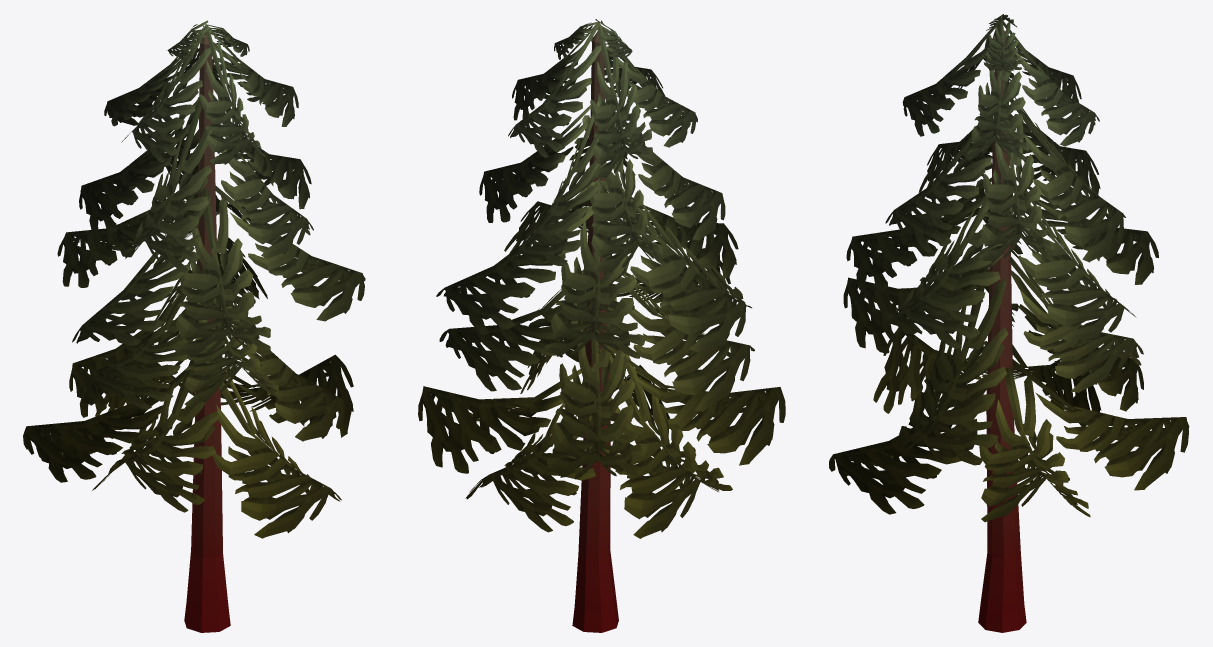
The picture shows the model from 3 angles, left to right: view 1: azimuth 30°, elevation 25°; view 2: azimuth 150°, elevation 25°; view 3: azimuth 270°, elevation 25°; orthographic projection.
Parts seen in each view (by area): view 1: SM_Tree_Pine_Small_01; view 2: SM_Tree_Pine_Small_01; view 3: SM_Tree_Pine_Small_01.
Boxes of the visible parts, x1=… form: SM_Tree_Pine_Small_01: x1=23, y1=20, x2=365, y2=632; SM_Tree_Pine_Small_01: x1=418, y1=19, x2=785, y2=632; SM_Tree_Pine_Small_01: x1=829, y1=14, x2=1189, y2=632.
Size of the model in its own units: 2.01 by 3.48 by 1.96.
2 materials, 2 textured.
